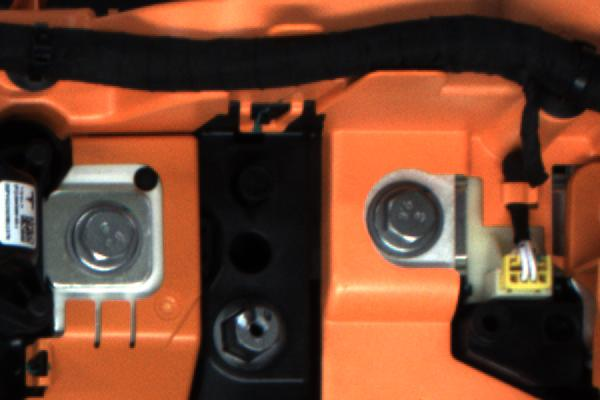nut_b: (61, 200, 149, 287), (361, 182, 447, 267)
